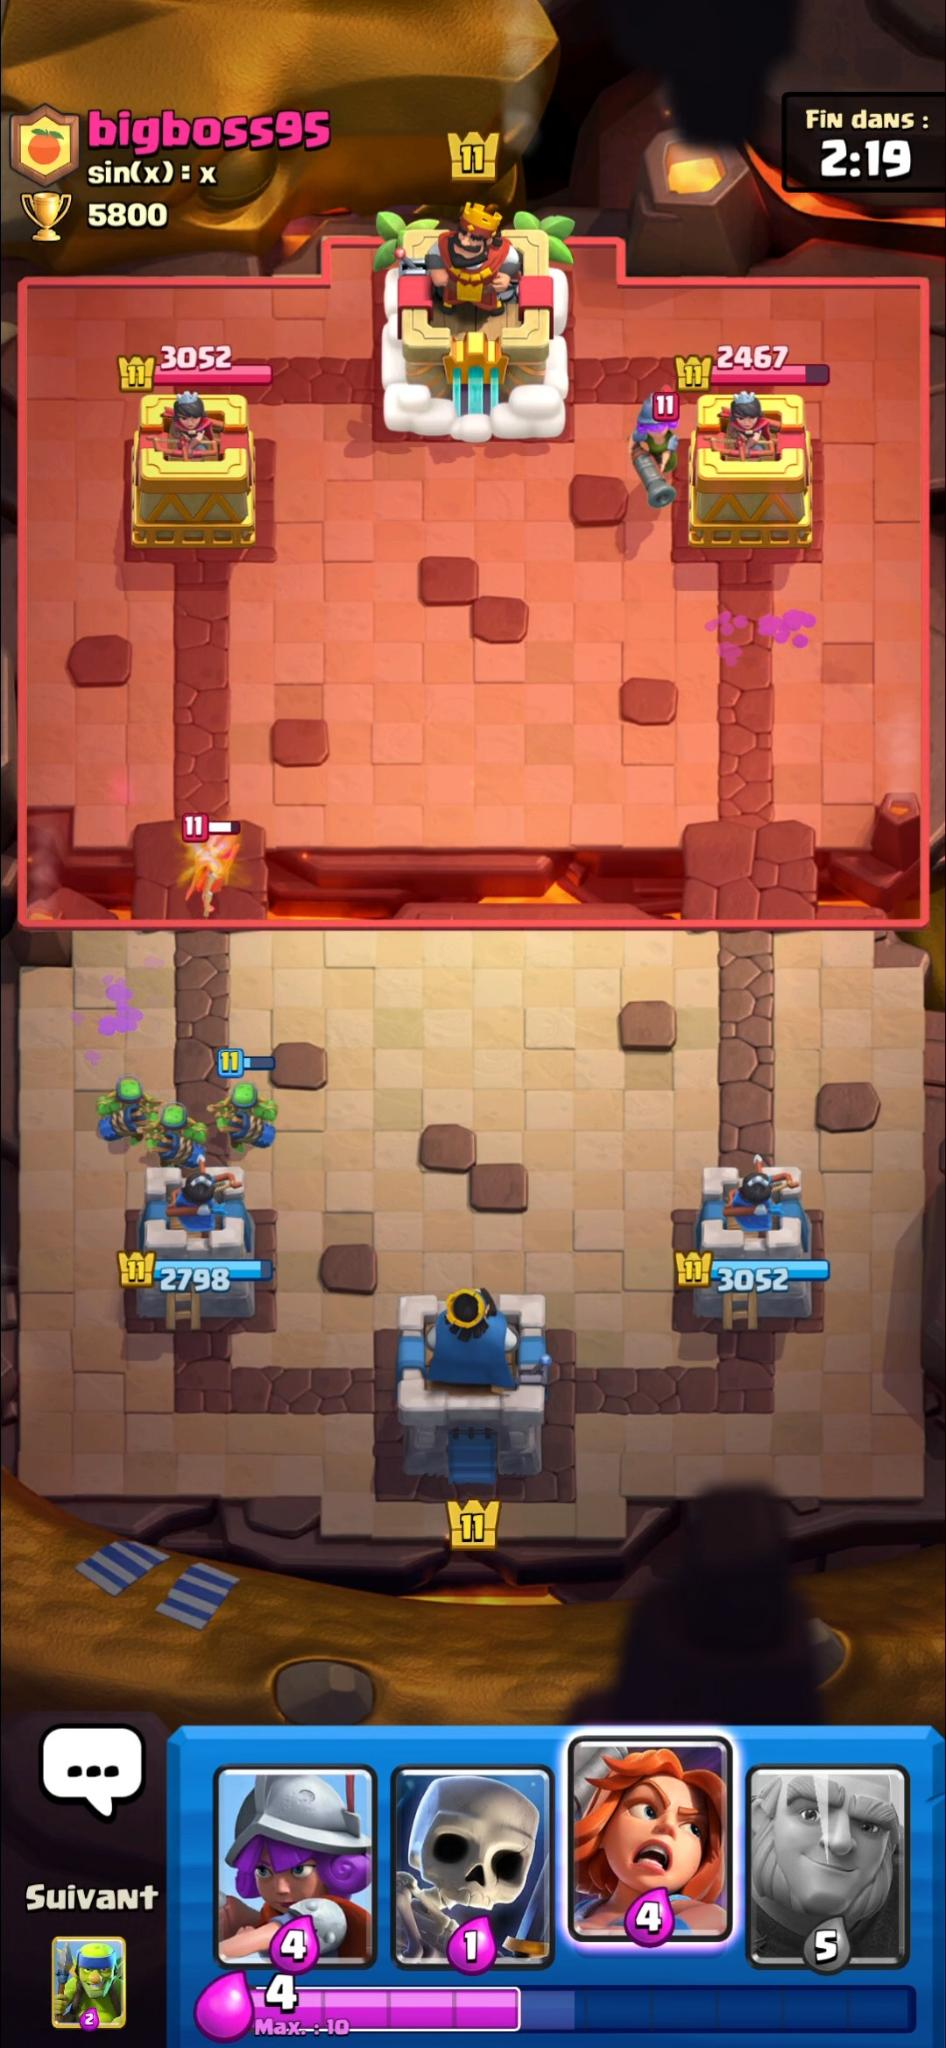archere: (180, 840, 248, 920)
gobelin_lances: (210, 1085, 278, 1149), (97, 1078, 161, 1143), (154, 1104, 209, 1168)
mousquetaire: (631, 401, 683, 507)
